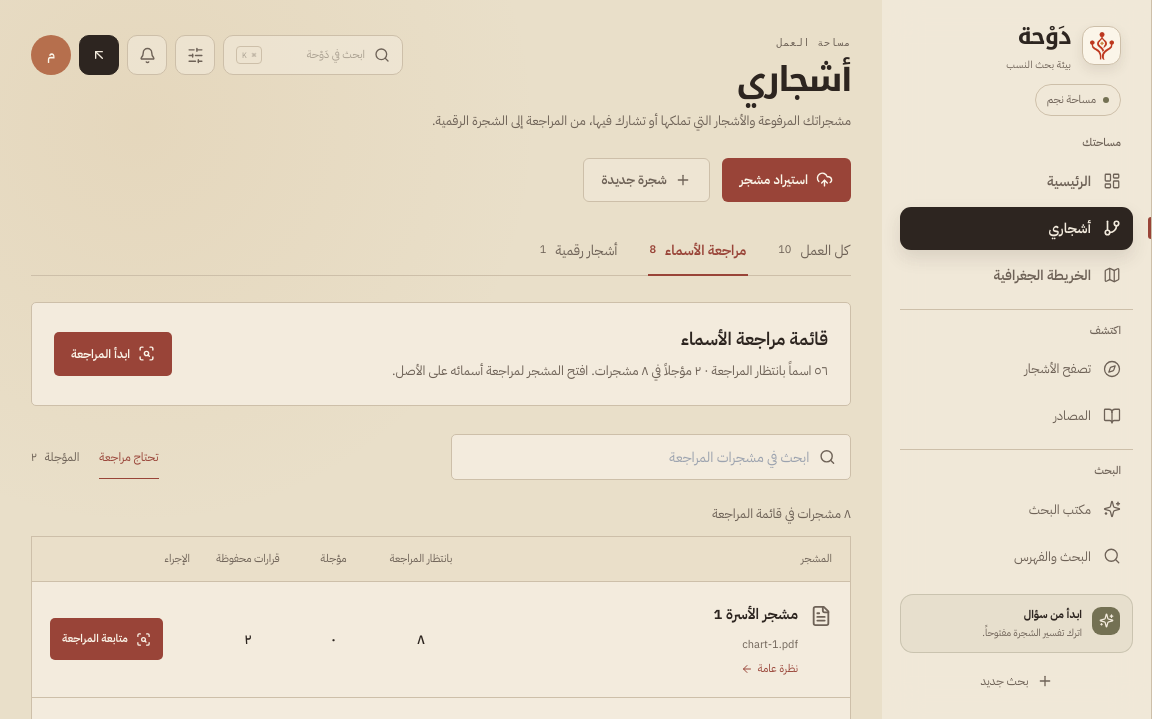
Test: redirects the old names index into a distinct task queue inside My trees
Expected: the heading "أشجاري" is shown, x1=736 y1=47 x2=851 y2=112
Click the button "المؤجلة ٢": (55, 457) x1=31 y1=435 x2=79 y2=479
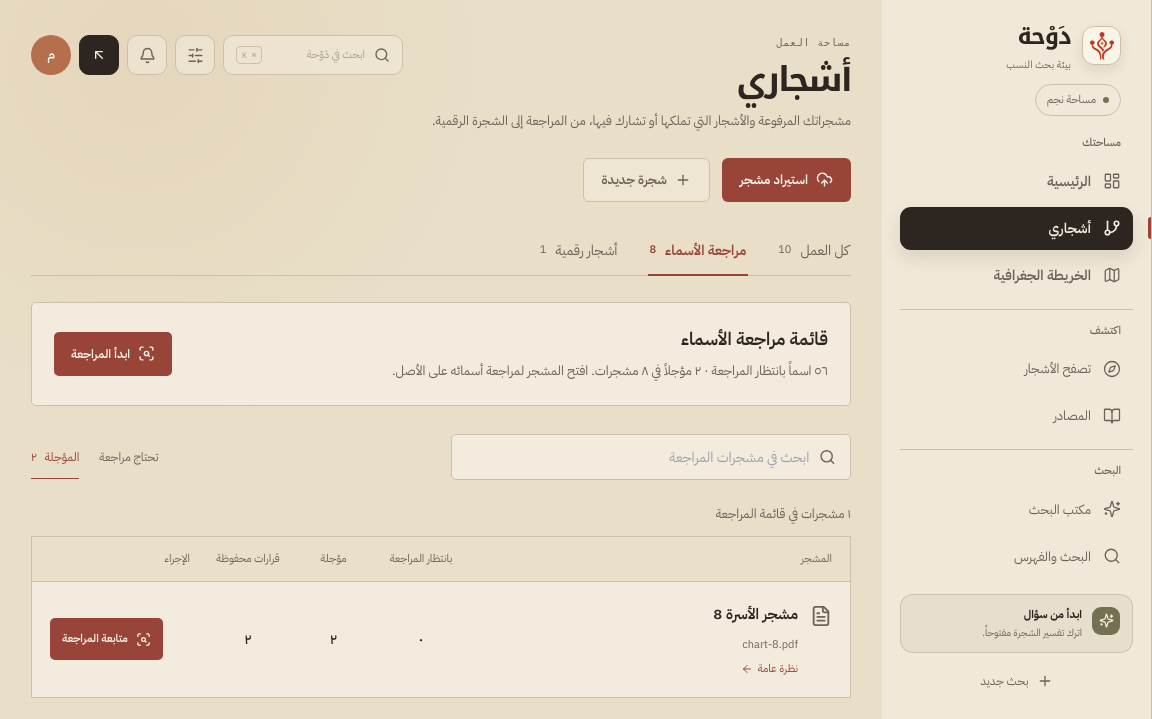
Expected: the text "مشجر الأسرة 8" is shown, x1=713 y1=603 x2=798 y2=625
Expected: the number of elements with class "review-queue-row" is 1, x1=32 y1=582 x2=850 y2=697
